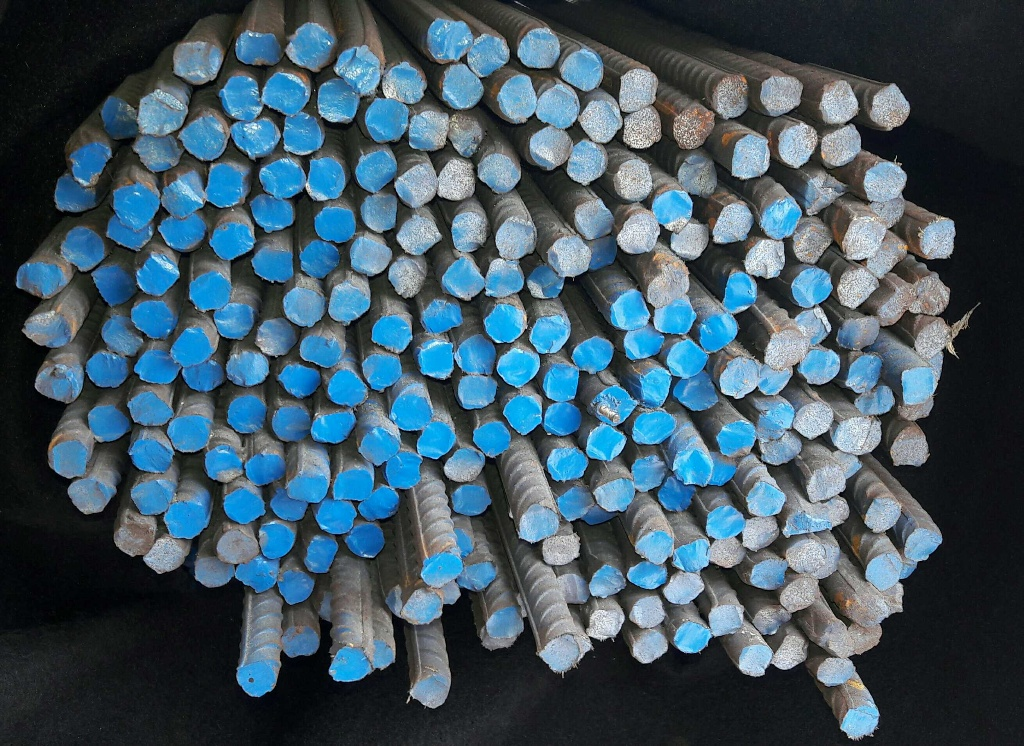dipstick: (286, 22, 335, 70), (137, 92, 186, 136), (171, 42, 220, 85), (111, 183, 161, 224), (264, 71, 308, 117), (818, 124, 865, 167), (335, 48, 379, 93), (427, 18, 473, 61), (350, 150, 397, 192), (219, 73, 263, 117), (181, 117, 226, 160), (232, 119, 278, 161), (206, 161, 247, 208), (367, 96, 406, 145), (67, 142, 111, 185), (529, 127, 573, 170), (676, 153, 721, 195), (710, 75, 750, 122), (129, 135, 182, 170), (580, 99, 623, 142), (59, 227, 105, 267), (98, 97, 138, 142), (406, 109, 446, 154), (537, 85, 577, 130), (315, 79, 354, 125), (568, 139, 606, 186), (440, 65, 482, 107), (757, 76, 800, 117), (518, 28, 558, 72), (209, 302, 253, 342), (186, 273, 232, 311), (257, 159, 304, 196), (497, 76, 534, 123), (33, 366, 80, 403), (124, 392, 172, 428), (617, 69, 658, 111), (48, 438, 91, 478), (384, 61, 423, 105), (819, 80, 858, 124), (170, 329, 214, 368), (163, 500, 207, 539), (88, 267, 133, 305), (249, 195, 294, 233), (482, 304, 528, 341), (20, 315, 73, 347), (13, 263, 64, 296), (468, 33, 509, 74), (610, 159, 651, 200), (100, 311, 141, 352), (136, 253, 178, 293), (234, 30, 281, 65), (283, 114, 323, 155), (252, 245, 292, 286), (732, 134, 771, 176), (168, 415, 210, 454), (664, 338, 706, 377), (160, 175, 203, 213), (675, 105, 713, 148), (445, 258, 483, 301), (837, 418, 880, 456), (53, 175, 98, 211), (346, 237, 391, 273), (645, 267, 690, 303), (841, 220, 881, 260), (477, 153, 518, 192), (572, 338, 613, 377), (494, 217, 535, 256), (255, 317, 297, 355), (87, 406, 130, 443), (160, 215, 204, 251), (452, 336, 496, 372), (863, 162, 907, 198), (223, 350, 269, 384), (626, 211, 660, 257), (282, 285, 322, 324), (84, 351, 125, 389), (780, 123, 817, 165), (792, 267, 834, 304), (873, 83, 906, 130), (314, 207, 357, 243), (563, 48, 599, 91), (304, 159, 343, 198), (446, 115, 485, 154), (653, 191, 692, 230), (548, 239, 587, 278), (611, 292, 650, 331), (298, 240, 338, 278), (359, 192, 397, 232), (415, 342, 455, 380), (529, 315, 569, 353), (449, 212, 489, 250), (747, 239, 785, 279), (482, 258, 523, 295), (65, 478, 107, 514), (517, 505, 559, 541), (130, 302, 173, 337), (677, 377, 720, 412), (391, 394, 430, 432), (911, 278, 949, 317), (624, 108, 661, 148), (505, 396, 542, 436), (721, 358, 758, 398), (793, 308, 833, 345), (211, 221, 252, 257), (454, 376, 496, 411), (113, 521, 156, 555), (129, 439, 172, 473), (271, 404, 310, 441), (318, 499, 357, 536), (765, 330, 804, 367), (593, 388, 633, 424), (541, 636, 577, 676), (223, 397, 264, 432), (763, 198, 798, 239), (401, 163, 434, 206), (133, 353, 176, 386), (803, 465, 846, 498), (804, 176, 841, 214), (666, 569, 704, 606), (131, 480, 171, 515), (223, 488, 263, 523), (331, 369, 366, 409), (373, 314, 408, 354), (654, 300, 694, 335), (624, 561, 669, 592), (313, 411, 354, 445), (723, 273, 756, 315), (920, 218, 953, 260), (838, 317, 881, 349), (436, 160, 473, 197), (361, 429, 398, 466), (576, 199, 613, 236), (817, 622, 854, 659), (329, 285, 365, 323), (334, 469, 372, 505), (675, 448, 711, 486), (840, 706, 878, 742), (499, 350, 538, 385), (631, 413, 673, 445), (217, 532, 260, 563), (395, 217, 438, 248), (619, 329, 662, 360), (405, 588, 441, 625), (544, 399, 580, 436), (637, 368, 673, 405), (301, 333, 339, 368), (804, 348, 839, 386), (586, 426, 625, 460), (235, 665, 276, 697), (593, 480, 635, 511), (105, 221, 155, 247), (411, 675, 447, 711), (418, 424, 454, 460), (865, 498, 901, 534), (718, 205, 753, 242), (673, 538, 710, 573), (915, 322, 950, 359), (237, 558, 275, 592), (330, 648, 370, 680), (179, 360, 220, 391), (142, 541, 183, 572), (443, 449, 484, 480), (256, 525, 292, 560), (361, 489, 397, 524), (539, 536, 581, 566), (718, 422, 754, 457), (670, 228, 707, 262), (660, 474, 694, 511), (868, 238, 902, 275), (206, 447, 244, 480), (754, 359, 792, 392), (547, 448, 586, 480), (194, 556, 234, 587), (422, 299, 462, 330), (280, 625, 315, 660), (363, 355, 398, 390), (797, 227, 832, 262), (544, 366, 580, 400), (632, 460, 668, 494), (795, 405, 831, 439), (636, 530, 673, 563), (780, 578, 817, 611), (277, 365, 319, 394), (389, 258, 418, 300), (898, 373, 936, 405), (269, 491, 308, 522), (704, 507, 744, 537), (589, 607, 623, 642), (589, 565, 624, 599), (707, 604, 742, 638), (892, 430, 926, 465), (450, 486, 491, 515), (759, 435, 800, 464), (529, 264, 562, 300), (700, 317, 736, 350), (848, 355, 881, 391), (421, 552, 458, 584), (672, 622, 709, 654), (786, 541, 823, 573), (305, 537, 336, 575), (290, 471, 329, 501), (279, 569, 312, 604), (710, 536, 745, 569), (586, 236, 617, 273), (558, 569, 589, 606), (750, 605, 788, 635), (877, 286, 906, 325), (781, 515, 830, 538), (351, 525, 384, 559), (840, 271, 873, 305), (867, 555, 901, 588), (812, 660, 855, 686), (246, 453, 282, 484), (387, 452, 418, 488), (755, 406, 792, 436), (831, 446, 864, 479), (743, 518, 777, 550), (740, 642, 771, 677), (749, 484, 785, 514), (855, 386, 892, 415), (556, 487, 588, 520), (848, 622, 881, 654), (872, 197, 906, 228), (477, 422, 507, 457), (879, 578, 905, 618), (486, 608, 523, 636), (461, 562, 494, 593), (634, 631, 667, 662), (906, 528, 937, 561), (630, 597, 664, 627), (849, 599, 885, 627), (313, 589, 340, 624), (775, 636, 804, 668), (475, 630, 517, 652), (451, 525, 477, 560), (367, 640, 394, 673), (579, 503, 617, 526), (896, 398, 931, 422), (819, 501, 850, 528), (709, 456, 734, 489), (821, 542, 841, 580), (897, 548, 918, 581), (573, 628, 591, 666), (435, 583, 459, 608)
